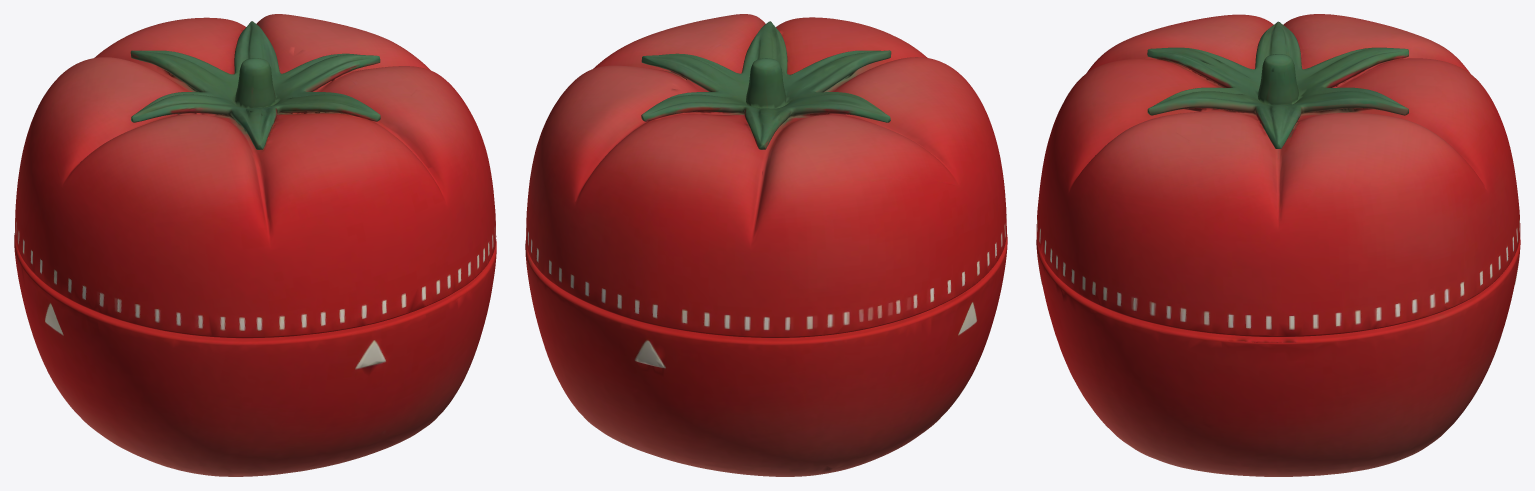
File: pomodoro.glb
3 views of the same model, side by side, from view 1: azimuth 30°, elevation 25°; view 2: azimuth 150°, elevation 25°; view 3: azimuth 270°, elevation 25° (orthographic).
Visible parts, largest first — view 1: node_0; view 2: node_0; view 3: node_0.
Boxes of the visible parts, x1=… form: node_0: x1=14, y1=14, x2=496, y2=476; node_0: x1=525, y1=14, x2=1007, y2=476; node_0: x1=1036, y1=14, x2=1520, y2=476.
Bounding box in the file's own units: 1.11 × 0.8983 × 1.11.
1 material, 1 textured.
